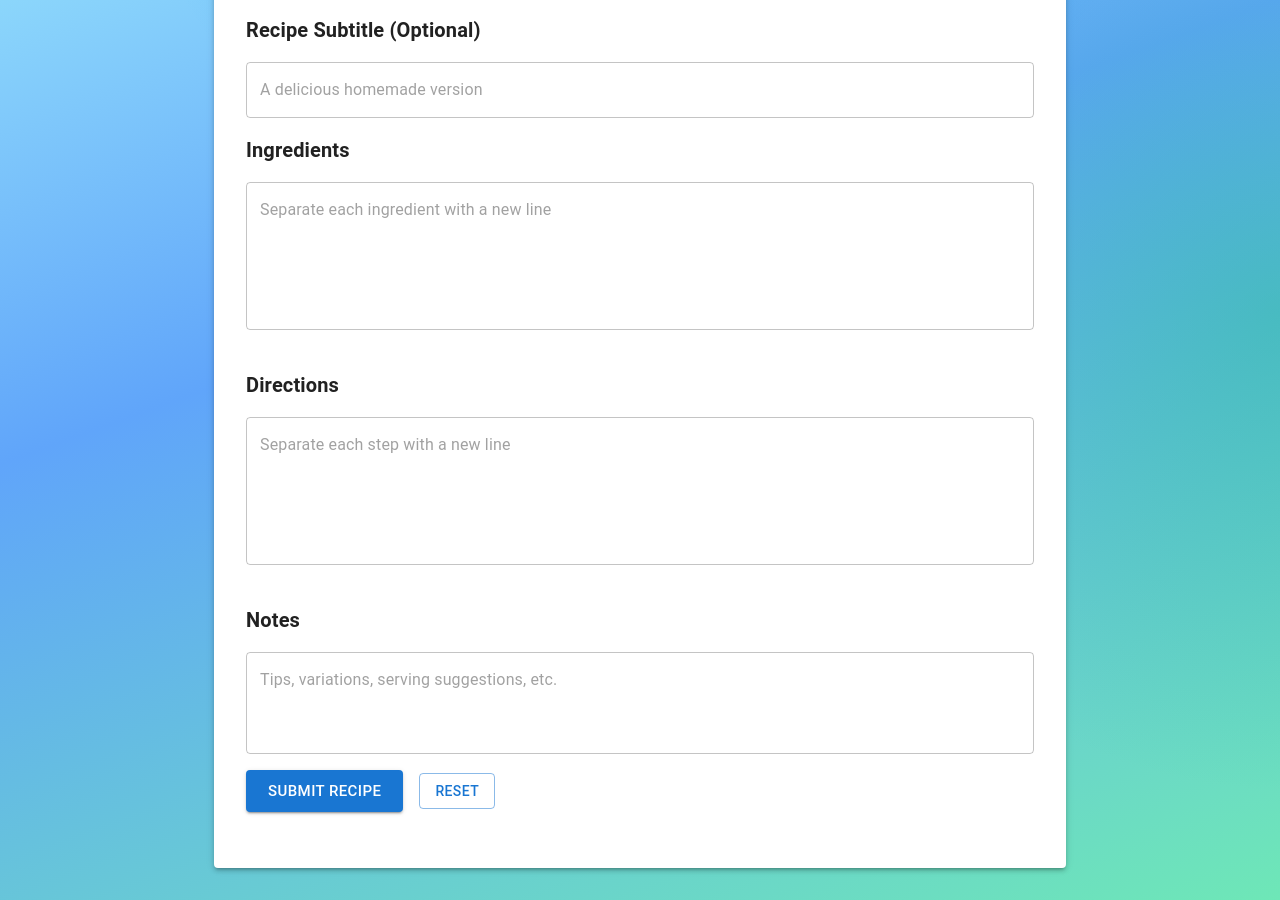
Home - Recipe Submission Form › clears submit error message after Reset
This screenshot has width=1280, height=900.
(page scrolled)
Click the button "Submit Recipe" at coordinates (325, 791), box left=246, top=770, right=403, bottom=812
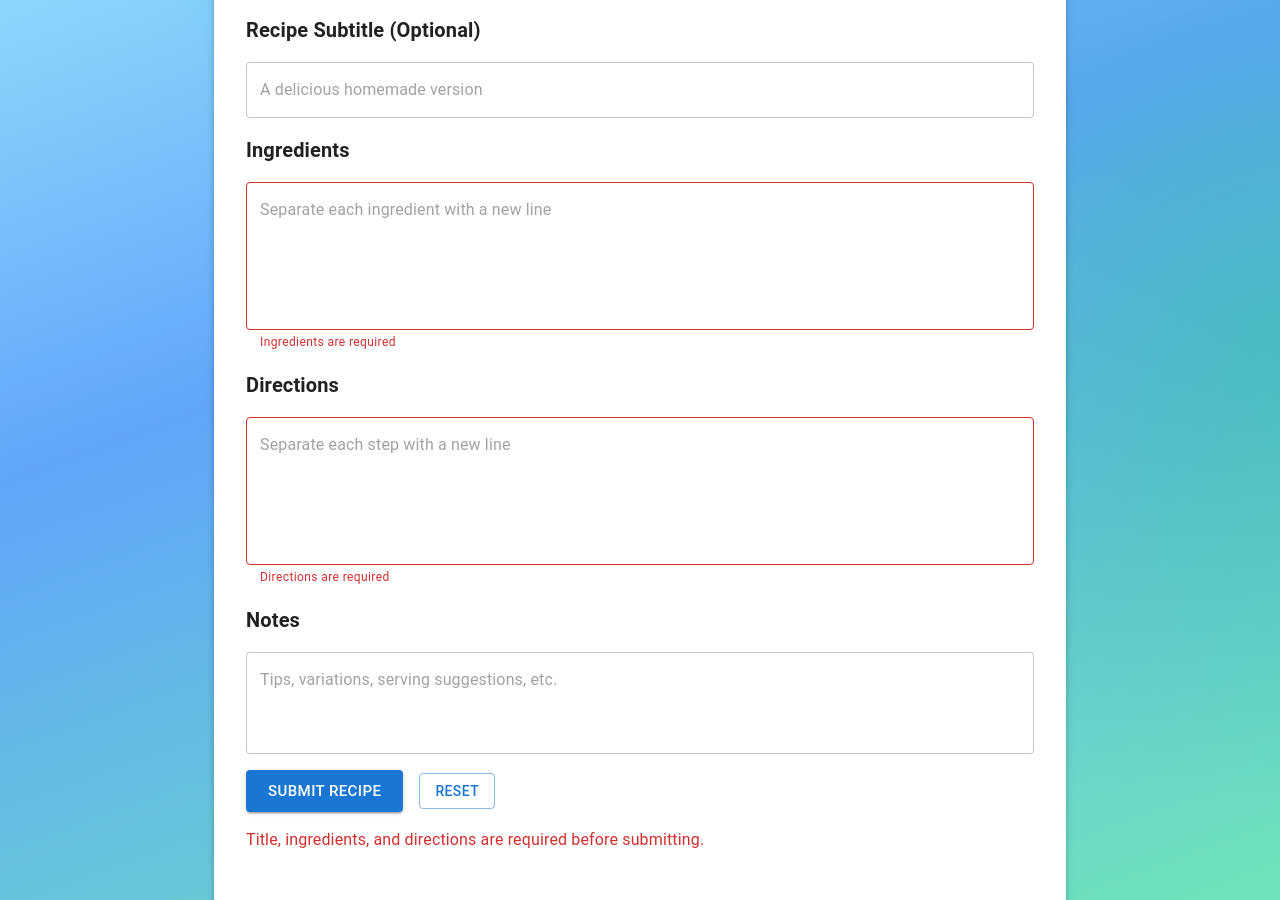
Result: the text "Title, ingredients, and directions are required before submitting" is shown at left=246, top=830, right=704, bottom=849
Click the button "Reset" at coordinates (457, 791), box left=419, top=773, right=495, bottom=809
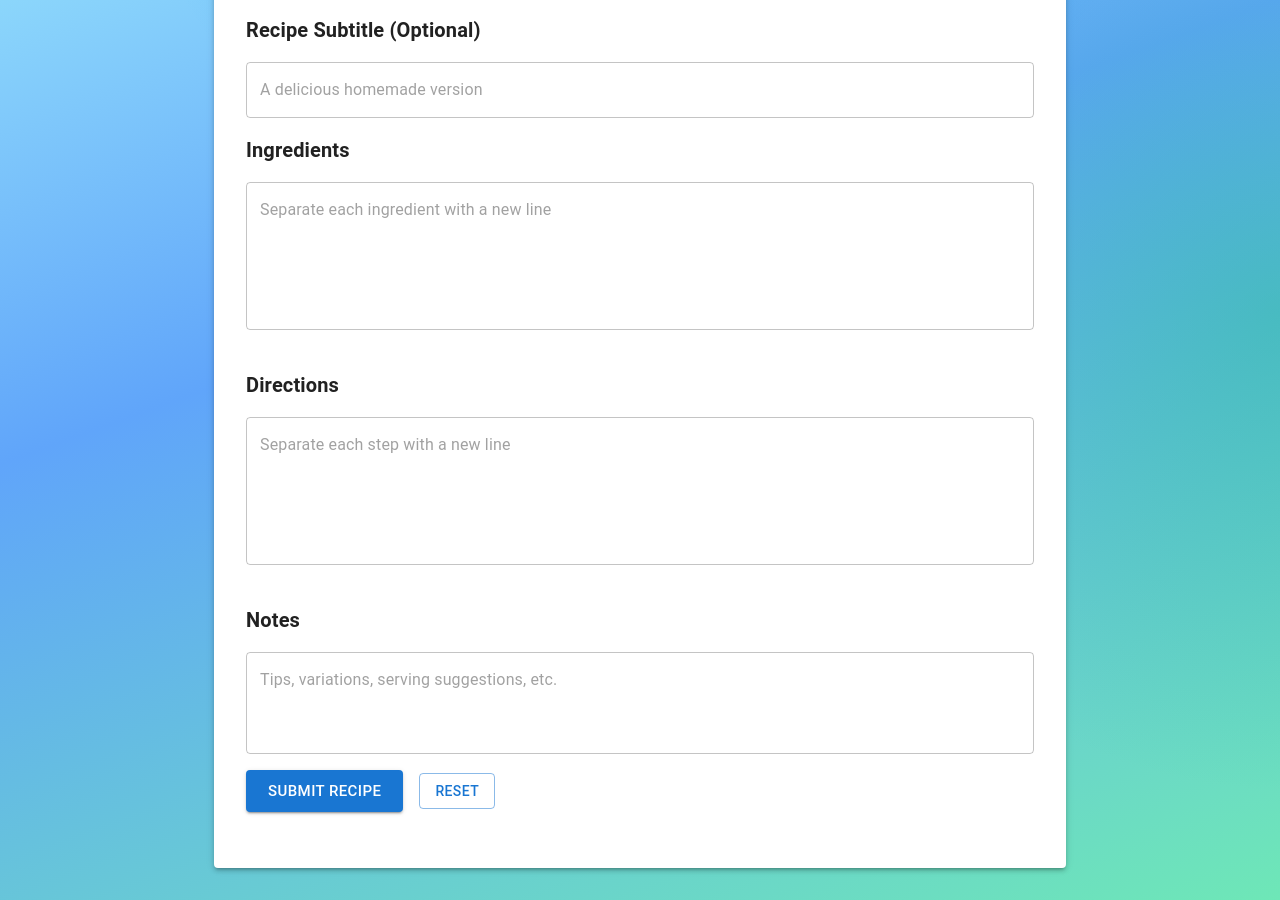
Result: the text "Title, ingredients, and directions are required before submitting" is gone
